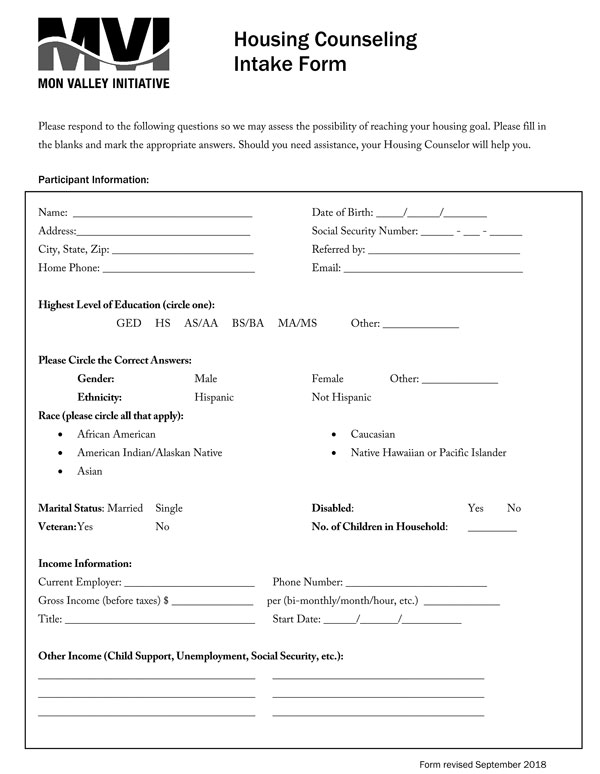textline: (35, 663, 258, 683), (271, 700, 486, 719), (35, 700, 257, 718), (35, 683, 256, 700), (271, 665, 486, 682), (271, 685, 488, 701), (65, 609, 256, 626), (342, 259, 523, 274), (76, 222, 252, 237), (321, 607, 463, 625), (72, 205, 254, 218), (101, 260, 257, 275), (368, 241, 521, 256), (110, 240, 254, 255), (420, 220, 524, 238), (374, 201, 488, 217), (344, 576, 489, 588), (124, 575, 256, 588), (171, 592, 256, 607), (422, 592, 502, 607), (421, 372, 500, 386), (382, 316, 460, 330), (400, 609, 464, 626), (466, 516, 520, 534), (360, 608, 397, 627), (445, 204, 487, 219), (322, 608, 356, 626), (407, 203, 440, 219), (488, 224, 523, 239), (421, 223, 455, 238), (375, 202, 402, 218), (462, 223, 481, 238)
